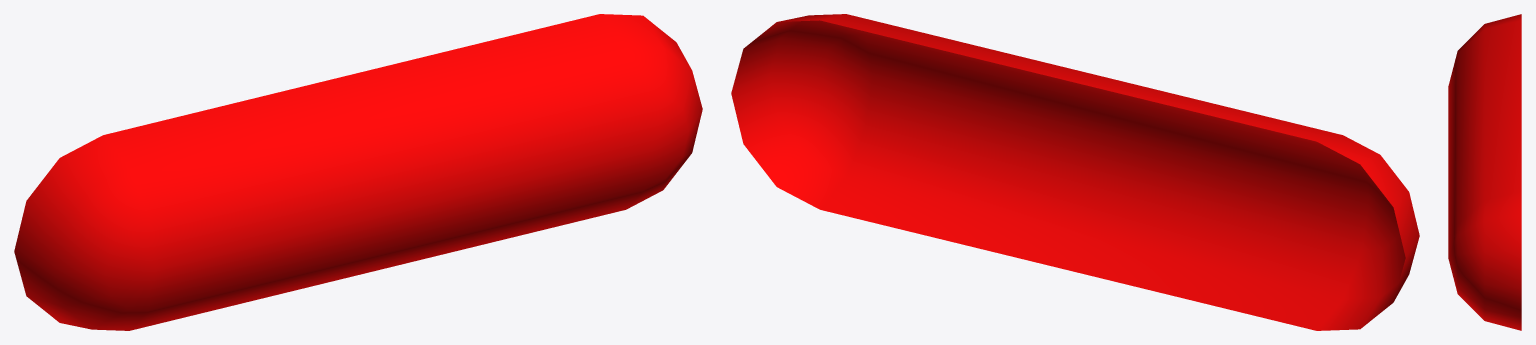
File: Light_Capsule.FBX
The picture shows the model from 3 angles, left to right: view 1: azimuth 30°, elevation 25°; view 2: azimuth 150°, elevation 25°; view 3: azimuth 270°, elevation 25°; orthographic projection. The views are drawn at different scales.
Visible parts, largest first — view 1: Light_Capsule; view 2: Light_Capsule; view 3: Light_Capsule.
Part boxes in pixels (x1,y1,x2,y2): Light_Capsule: (14, 14, 702, 330); Light_Capsule: (731, 14, 1419, 330); Light_Capsule: (1448, 14, 1521, 330).
Size of the model in its own units: 37.05 by 9.94 by 4.97.
